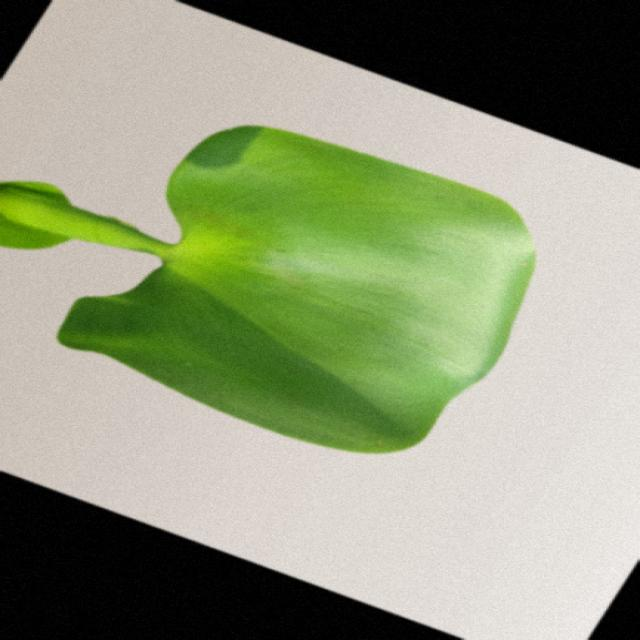daun sehat: (0, 125, 535, 452)
